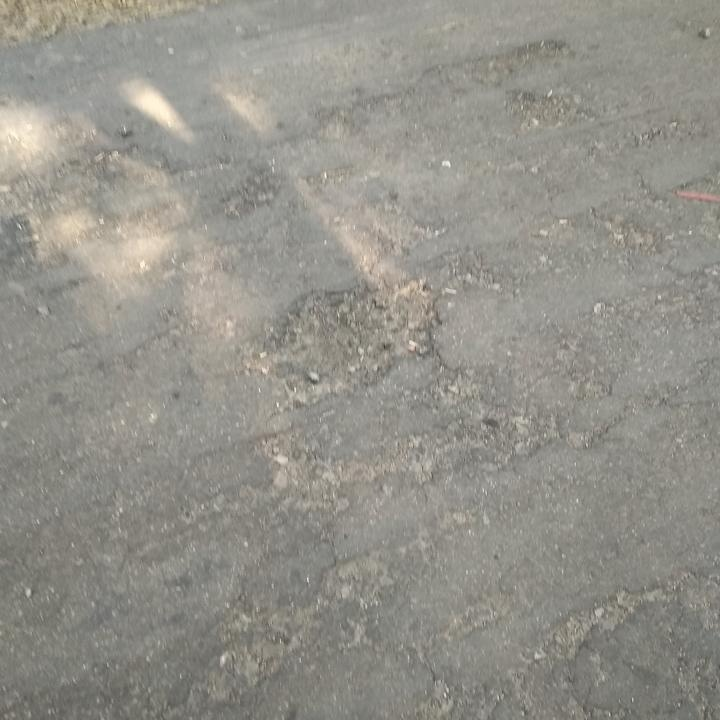pothole: (236, 267, 451, 408)
